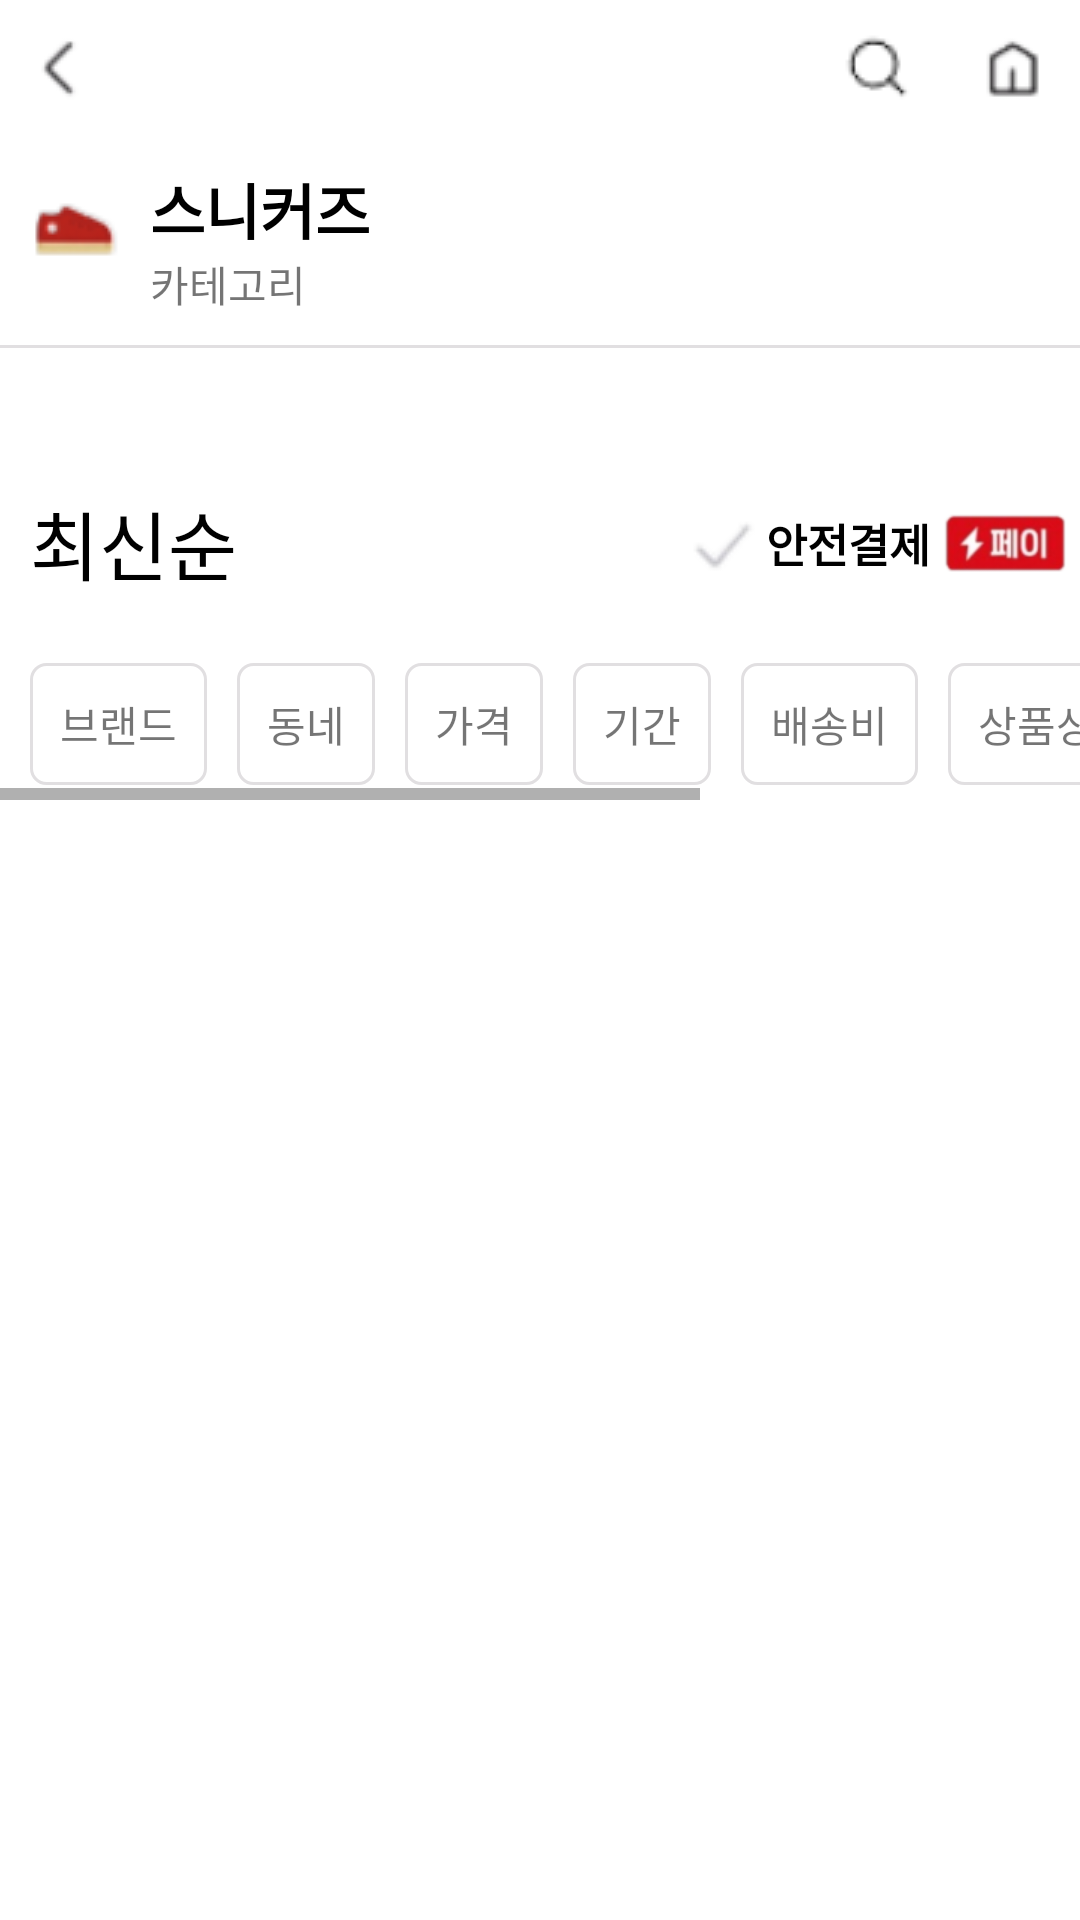

Point at icon controls on the screen. Image size 1080px x 1920px, points as point (x, y).
back arrow: point (58, 68)
home: point (1014, 69)
search: point (877, 67)
sneakers: point (75, 230)
unchk: point (723, 546)
